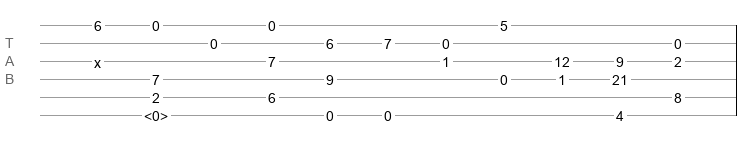0: (152, 18, 160, 28), (210, 36, 218, 46), (268, 18, 276, 28), (326, 108, 334, 118), (384, 108, 392, 118), (442, 36, 450, 46), (500, 72, 508, 82), (674, 36, 682, 46)
1: (442, 54, 450, 64), (558, 72, 566, 82)
12: (554, 54, 570, 64)
2: (152, 90, 160, 100), (674, 54, 682, 64)
21: (612, 72, 628, 82)
4: (616, 108, 624, 118)
5: (500, 18, 508, 28)
6: (94, 18, 102, 28), (268, 90, 276, 100), (326, 36, 334, 46)
7: (152, 72, 160, 82), (268, 54, 276, 64), (384, 36, 392, 46)
8: (674, 90, 682, 100)
9: (326, 72, 334, 82), (616, 54, 624, 64)
harmonic: (144, 108, 168, 118)
x: (94, 55, 101, 63)
